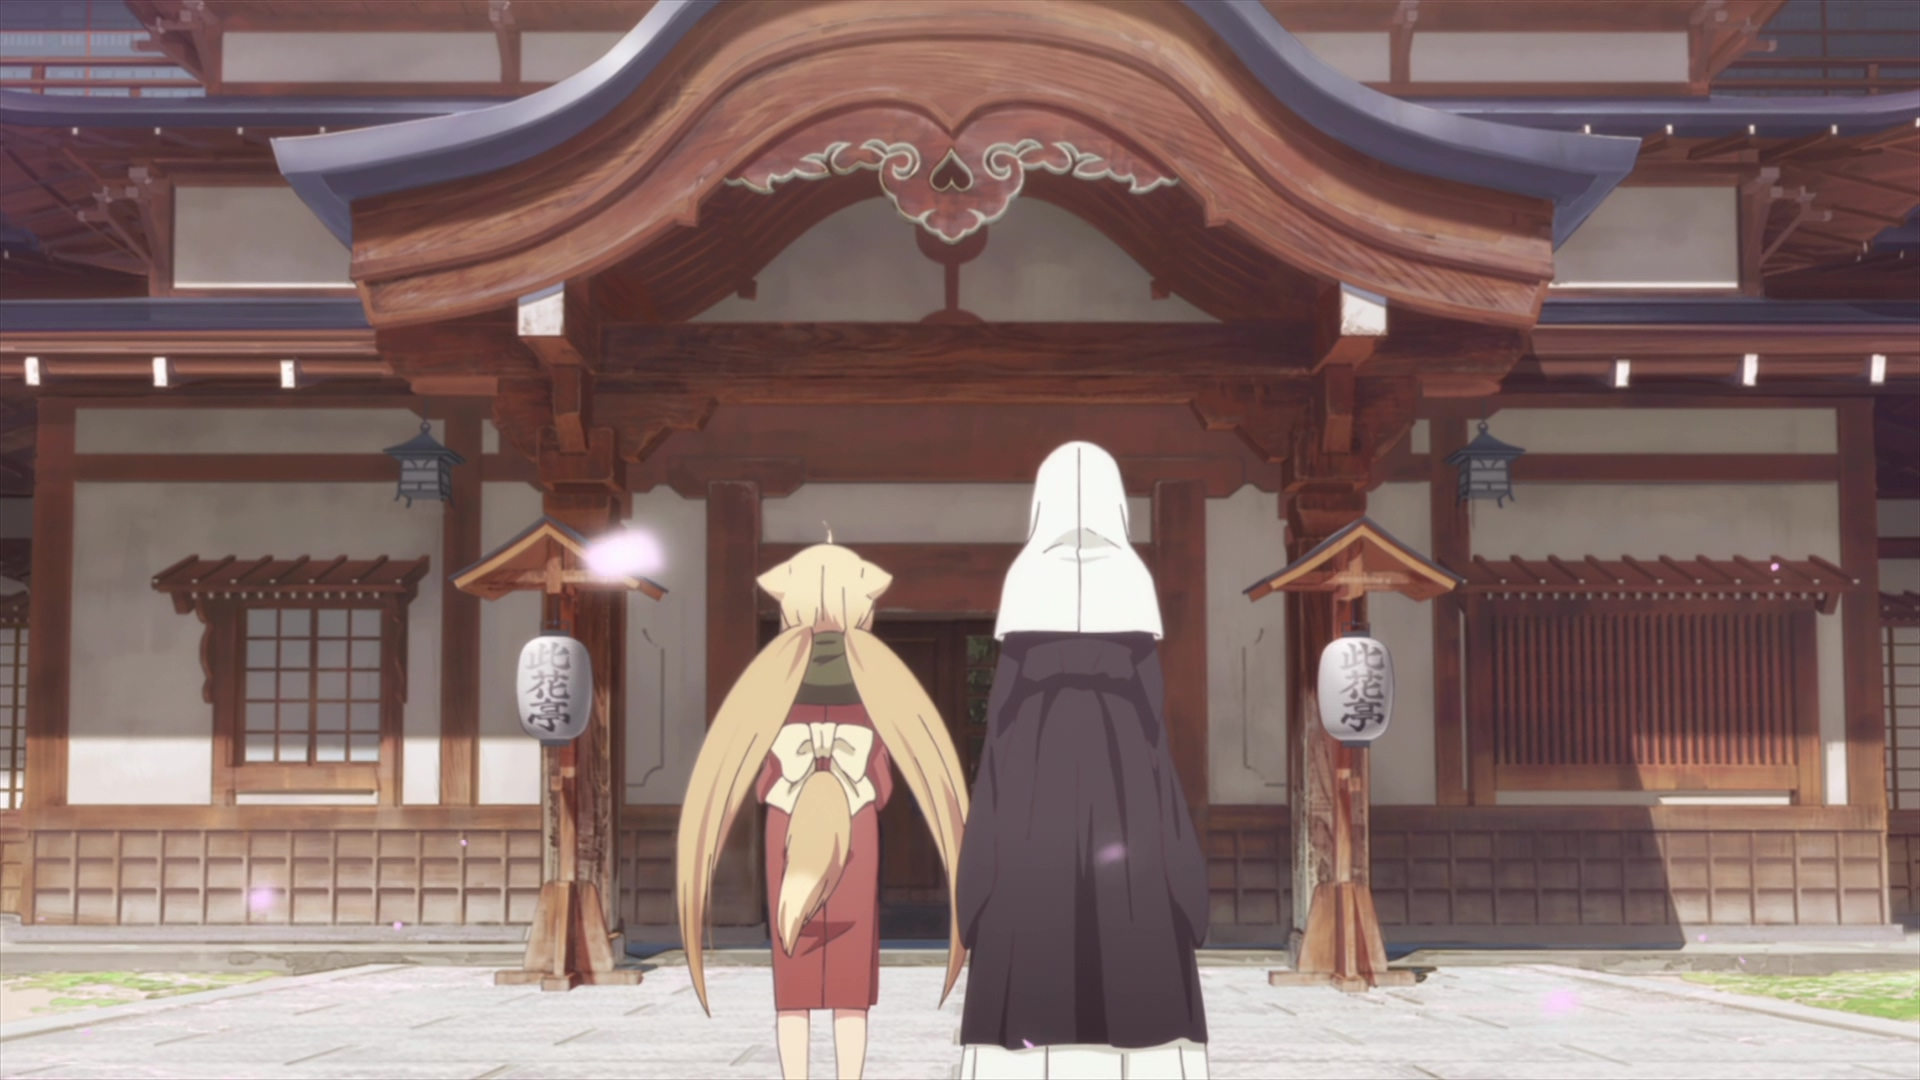八百比丘尼: (953, 440, 1208, 1080)
柚: (676, 521, 967, 1080)
